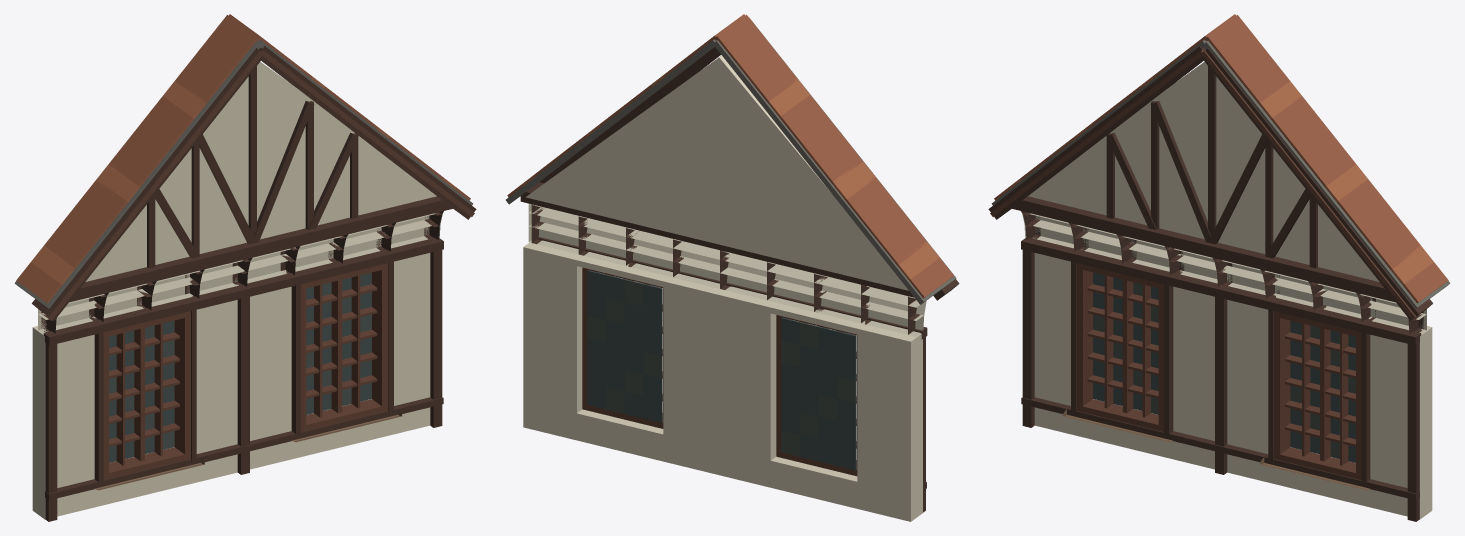
File: xuhui-yueyang-former-french-consulate-timber-gable-lod.glb
The picture shows the model from 3 angles, left to right: view 1: azimuth 30°, elevation 25°; view 2: azimuth 150°, elevation 25°; view 3: azimuth 330°, elevation 25°; orthographic projection.
Parts seen in each view (by area): view 1: 原法国领事馆岳阳路11号楼露木山墙与双窗; view 2: 原法国领事馆岳阳路11号楼露木山墙与双窗; view 3: 原法国领事馆岳阳路11号楼露木山墙与双窗.
Boxes of the visible parts, left/top/right/bottom form: 原法国领事馆岳阳路11号楼露木山墙与双窗: left=14, top=14, right=476, bottom=521; 原法国领事馆岳阳路11号楼露木山墙与双窗: left=506, top=14, right=959, bottom=521; 原法国领事馆岳阳路11号楼露木山墙与双窗: left=988, top=14, right=1450, bottom=521.
Bounding box in the file's own units: 4.49 × 4.46 × 0.633.
